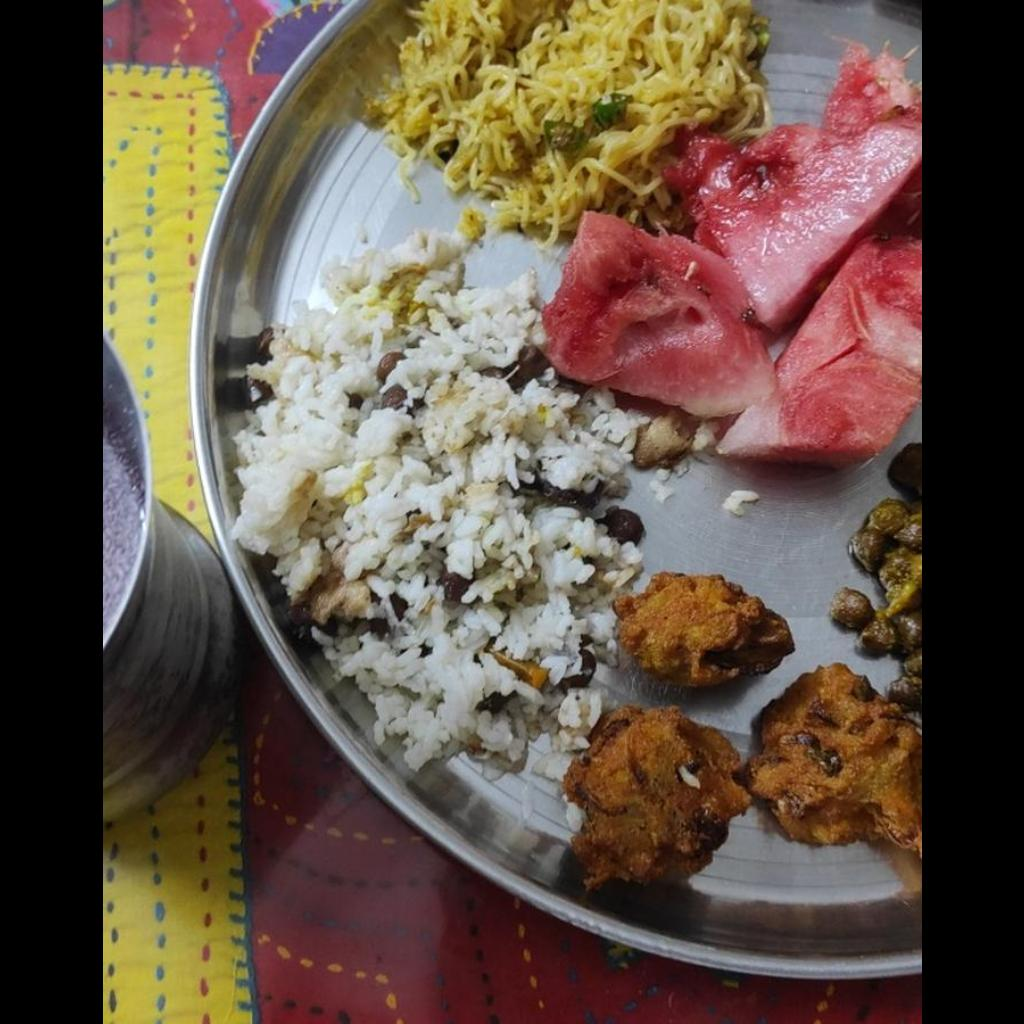biriyani: (223, 237, 644, 773)
chola: (828, 440, 920, 708)
noodles: (369, 0, 771, 225)
peyaju: (562, 575, 918, 881)
watermelon: (542, 43, 920, 460)
